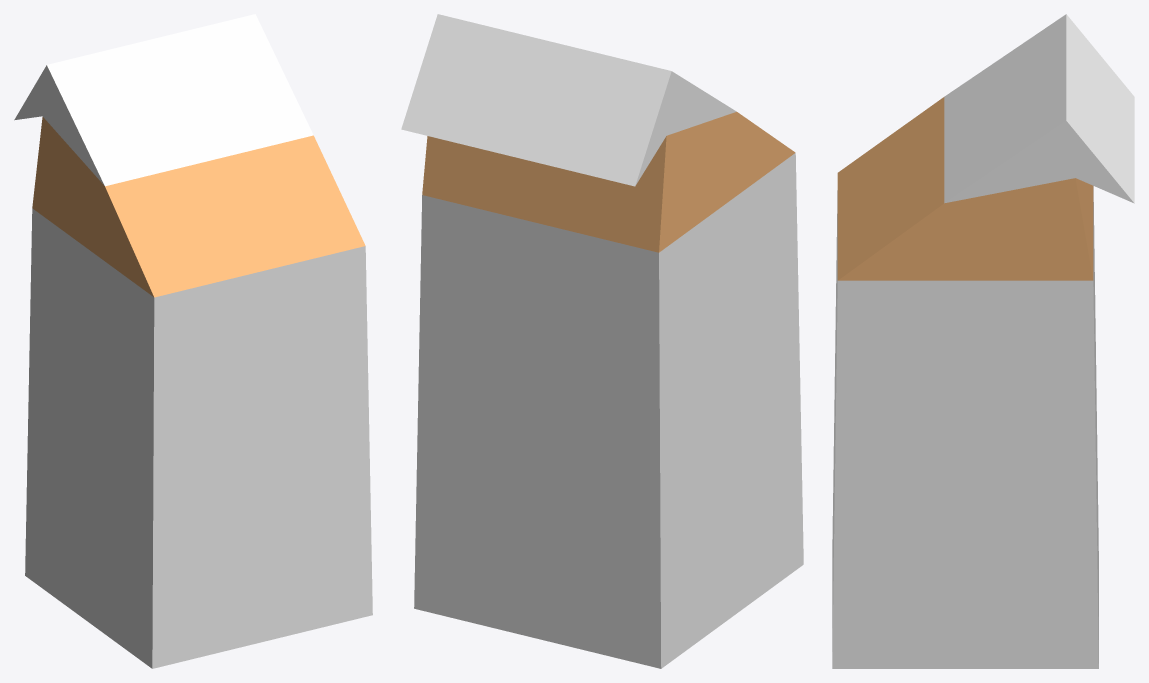
Rendered from Flour.fbx.
3 views of the same model, side by side, from view 1: azimuth 30°, elevation 25°; view 2: azimuth 150°, elevation 25°; view 3: azimuth 270°, elevation 25° (orthographic). The views are drawn at different scales.
Parts seen in each view (by area): view 1: Flour; view 2: Flour; view 3: Flour.
Boxes of the visible parts, x1,y1,x2,y2 form: Flour: [14, 14, 372, 668]; Flour: [401, 14, 803, 668]; Flour: [832, 14, 1134, 668].
Size of the model in its own units: 22.42 by 25.43 by 50.6.
